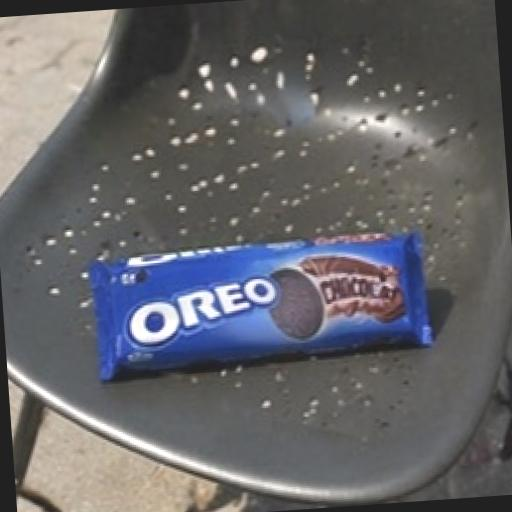oreo: (39, 151, 485, 446)
